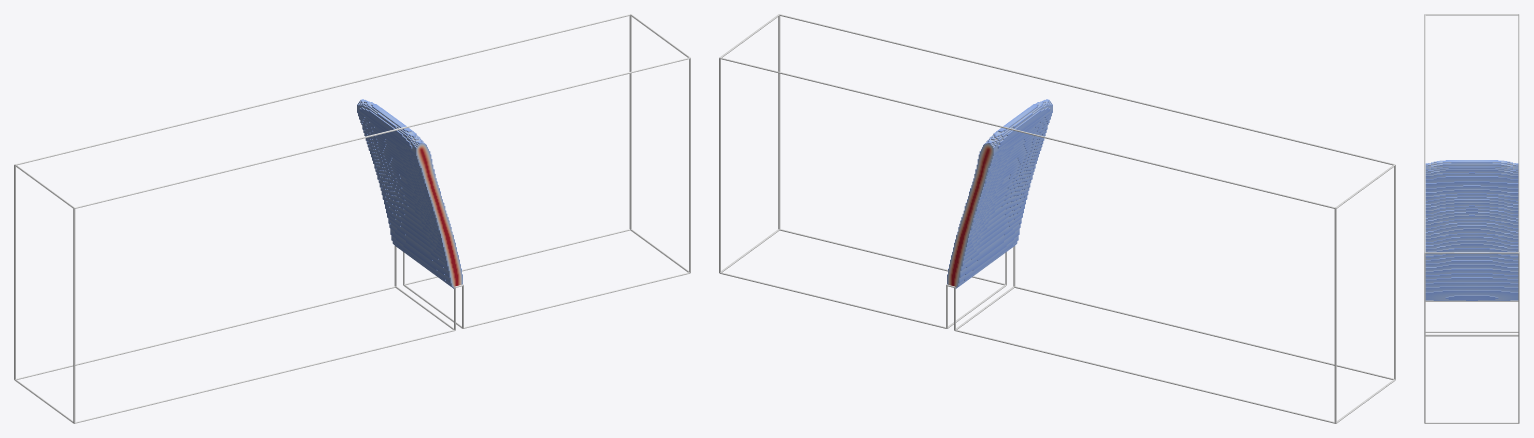
The model's file is HB_Crack_glb.glb.
3 renders of one model, left to right at view 1: azimuth 30°, elevation 25°; view 2: azimuth 150°, elevation 25°; view 3: azimuth 270°, elevation 25°, orthographic. The views are drawn at different scales.
Parts seen in each view (by area): view 1: HB_Crack_0, HB_Outline 0_0, HB_Outline 1_0, HB_Outline13_0, HB_Outline14_0, HB_Outline 4_0, HB_Outline 8_0; view 2: HB_Crack_0, HB_Outline 0_0, HB_Outline 1_0, HB_Outline14_0, HB_Outline13_0, HB_Outline 5_0, HB_Outline 7_0; view 3: HB_Crack_0, HB_Outline 0_0, HB_Outline 1_0, HB_Outline 7_0, HB_Outline 8_0, HB_Outline12_0, HB_Outline 3_0, HB_Outline 2_0, HB_Outline 9_0, HB_Outline15_0, HB_Outline16_0.
Part boxes in pixels (left/top/right/bottom): HB_Crack_0: left=357, top=99, right=462, bottom=288; HB_Outline 0_0: left=74, top=57, right=690, bottom=208; HB_Outline 1_0: left=15, top=14, right=630, bottom=165; HB_Outline13_0: left=74, top=329, right=455, bottom=423; HB_Outline14_0: left=16, top=286, right=395, bottom=379; HB_Outline 4_0: left=73, top=208, right=75, bottom=423; HB_Outline 8_0: left=629, top=15, right=631, bottom=229; HB_Crack_0: left=947, top=99, right=1052, bottom=288; HB_Outline 0_0: left=779, top=14, right=1394, bottom=165; HB_Outline 1_0: left=719, top=57, right=1335, bottom=208; HB_Outline14_0: left=954, top=329, right=1335, bottom=423; HB_Outline13_0: left=1014, top=286, right=1393, bottom=379; HB_Outline 5_0: left=1334, top=208, right=1336, bottom=423; HB_Outline 7_0: left=778, top=15, right=780, bottom=229; HB_Crack_0: left=1425, top=160, right=1518, bottom=300; HB_Outline 0_0: left=1424, top=14, right=1425, bottom=252; HB_Outline 1_0: left=1518, top=14, right=1519, bottom=252; HB_Outline 7_0: left=1424, top=253, right=1425, bottom=423; HB_Outline 8_0: left=1518, top=253, right=1519, bottom=423; HB_Outline12_0: left=1425, top=334, right=1518, bottom=336; HB_Outline 3_0: left=1425, top=252, right=1518, bottom=253; HB_Outline 2_0: left=1425, top=14, right=1518, bottom=15; HB_Outline 9_0: left=1425, top=422, right=1518, bottom=423; HB_Outline15_0: left=1425, top=331, right=1518, bottom=332; HB_Outline16_0: left=1425, top=300, right=1518, bottom=301.
Size of the model in its own units: 7.64 by 2.56 by 1.29.
